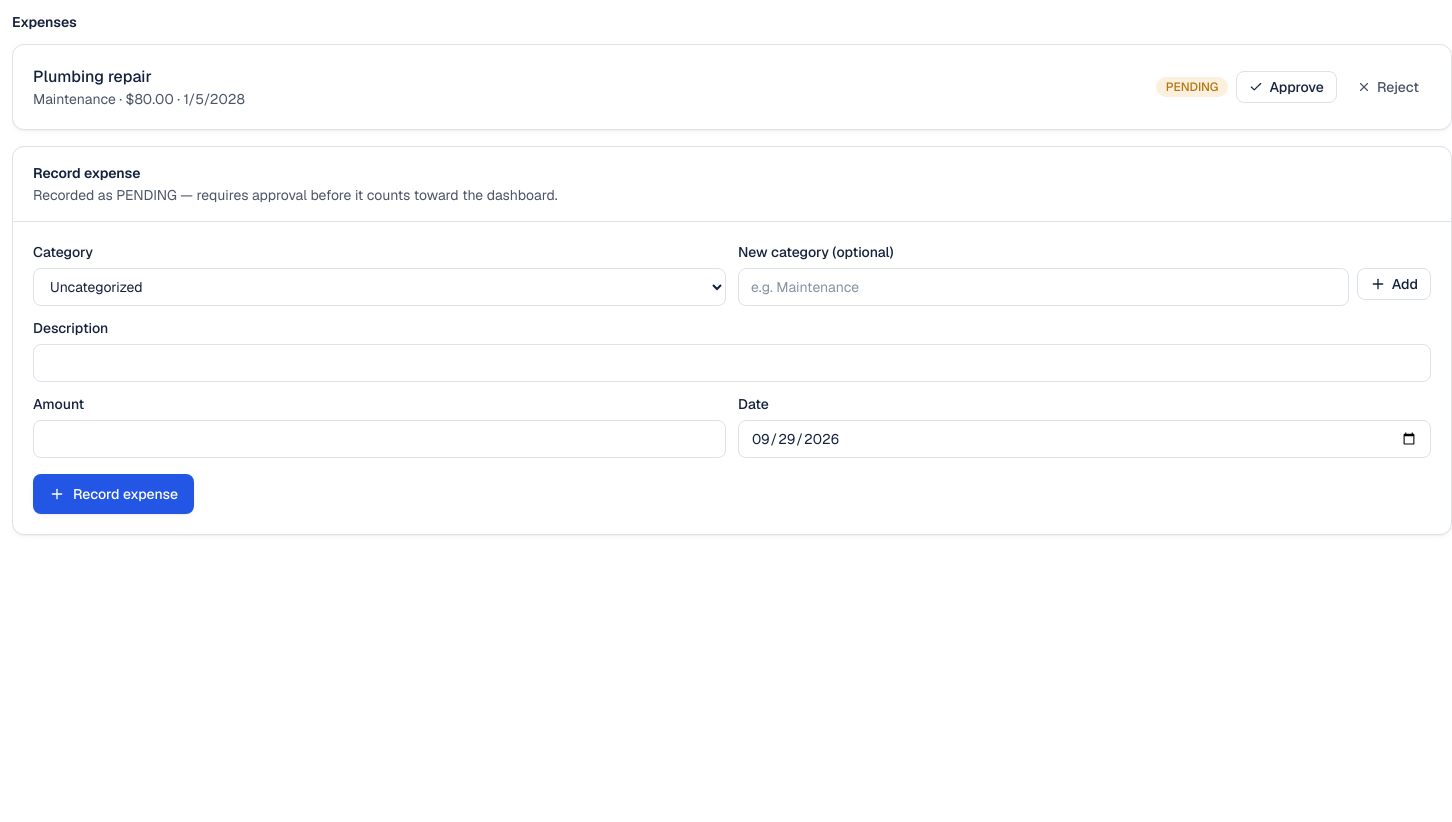
Test: ExpensesTab — approve/reject/mark-paid (mutations) › approves and shows a success toast, then reloads the list
Step 1. Click the button "Approve" → (1287, 87), box top-left (1236, 71), bottom-right (1337, 103)
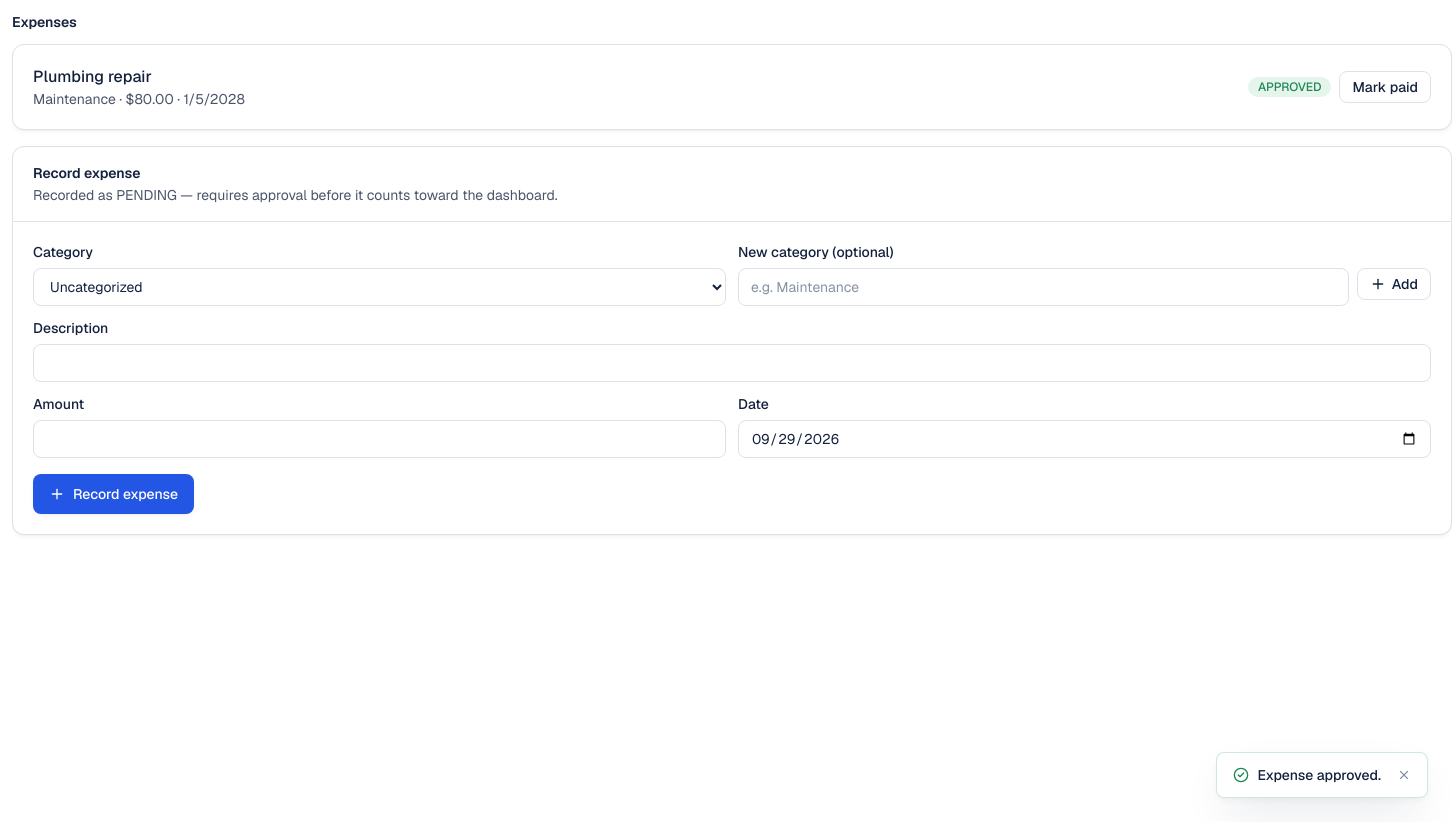
Check: the text "Expense approved." is shown, box top-left (1257, 765), bottom-right (1381, 785)
